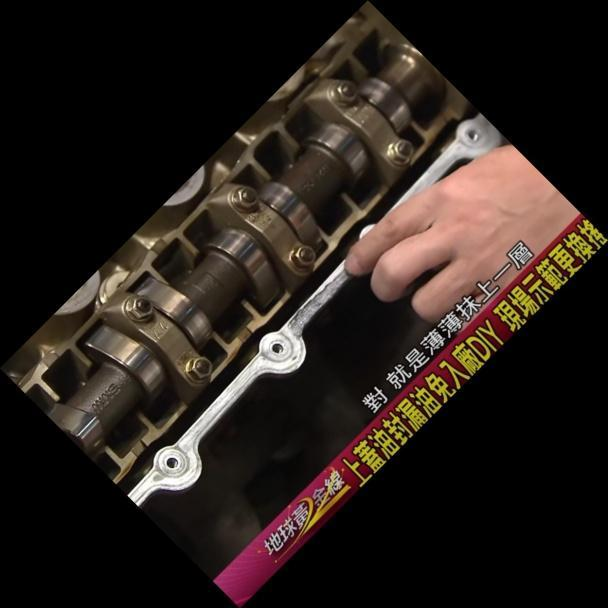hole: (161, 450, 184, 473), (267, 338, 286, 357)
